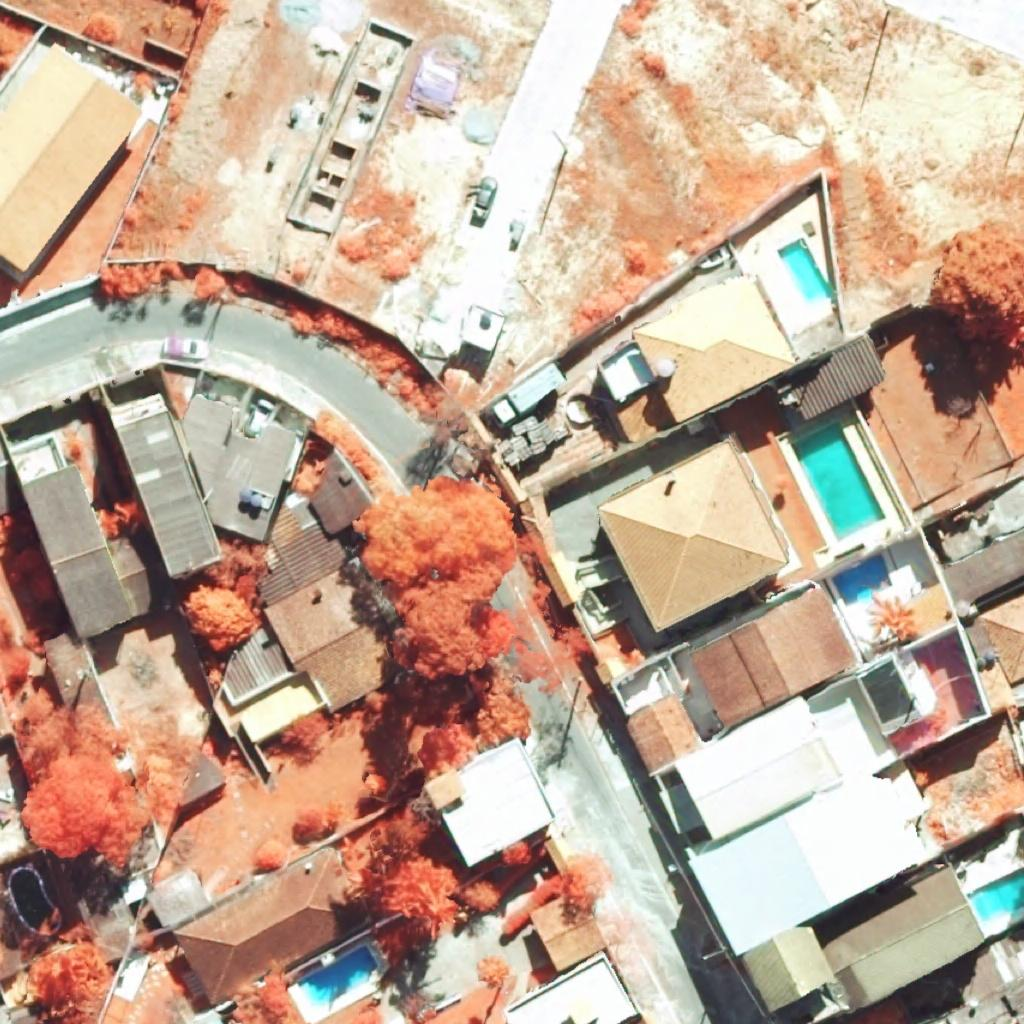pool: (790, 421, 885, 541), (299, 945, 378, 1008), (778, 238, 835, 303), (967, 867, 1024, 922), (832, 554, 889, 606), (10, 869, 50, 932)
